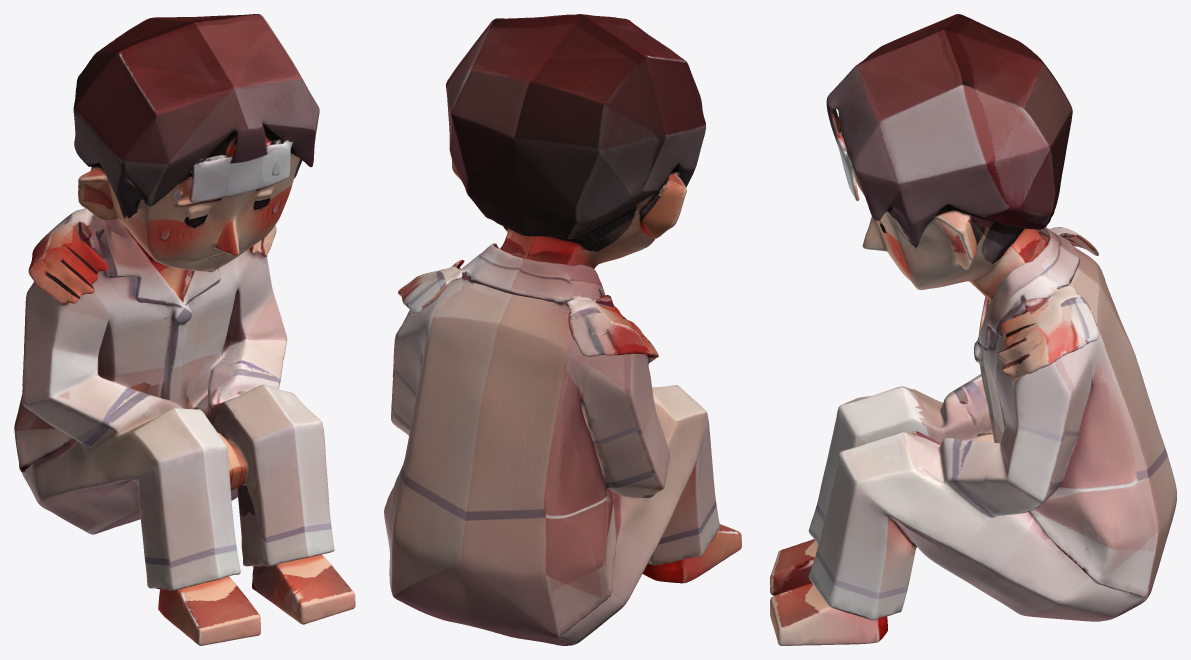
File: nikos.glb
The picture shows the model from 3 angles, left to right: view 1: azimuth 30°, elevation 25°; view 2: azimuth 150°, elevation 25°; view 3: azimuth 270°, elevation 25°; orthographic projection. The views are drawn at different scales.
Visible parts, largest first — view 1: Mesh; view 2: Mesh; view 3: Mesh.
Boxes of the visible parts, box(x1,y1,x2,y2) form: Mesh: box(14, 14, 355, 645); Mesh: box(384, 14, 741, 645); Mesh: box(770, 14, 1176, 645).
Bounding box in the file's own units: 0.4892 × 0.9894 × 0.6347.
Materials: 1 (1 with a texture image).
